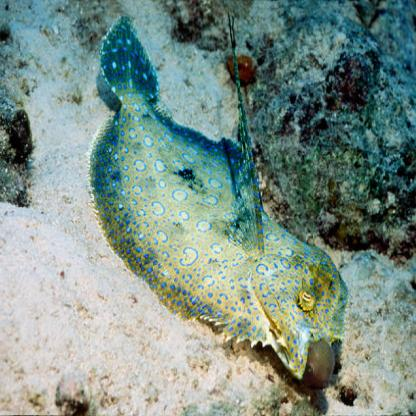flounder: (84, 8, 350, 395)
